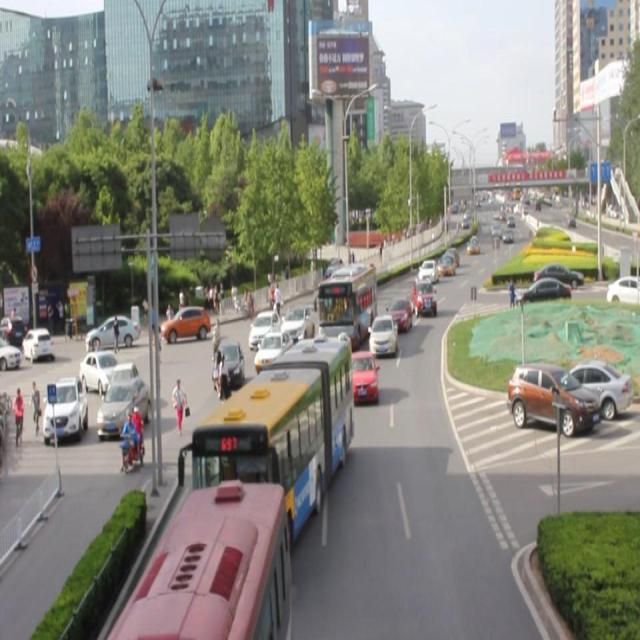car: (253, 363, 297, 423), (211, 337, 245, 392), (345, 348, 378, 402), (253, 329, 294, 370), (248, 308, 281, 352), (280, 303, 313, 346), (368, 313, 396, 355), (410, 276, 436, 314), (384, 296, 412, 331), (417, 258, 438, 284)
van: (191, 338, 352, 526), (125, 481, 287, 640), (316, 264, 377, 340)
